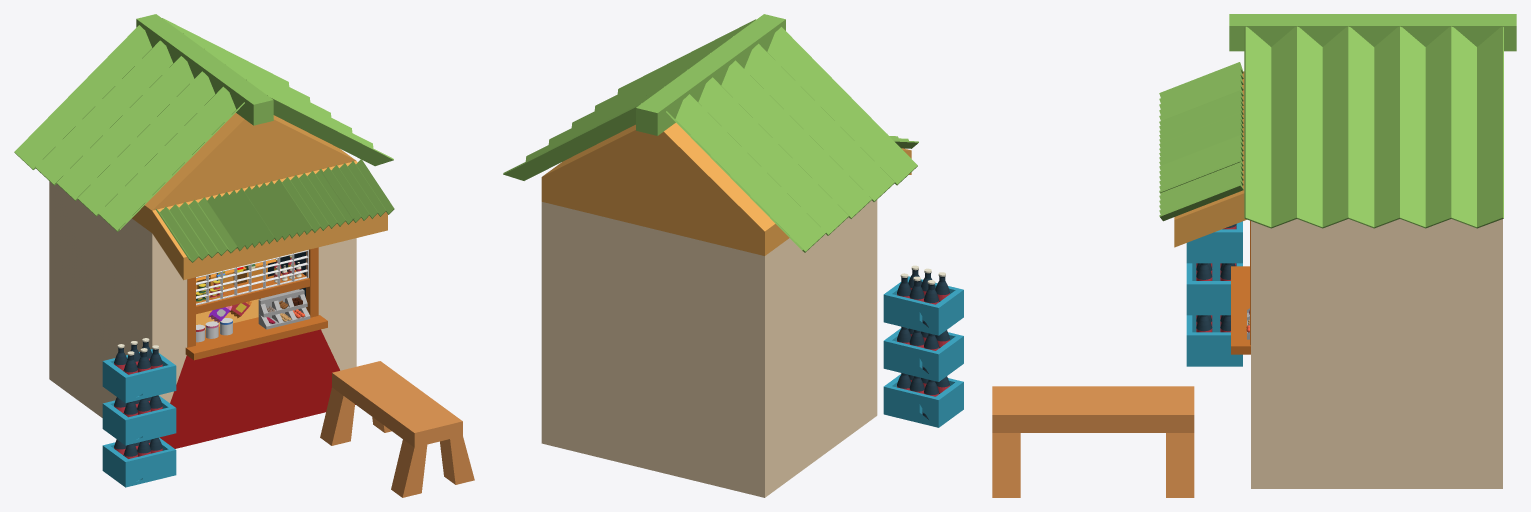
The model's file is sarisari.fbx.
The picture shows the model from 3 angles, left to right: view 1: azimuth 30°, elevation 25°; view 2: azimuth 150°, elevation 25°; view 3: azimuth 270°, elevation 25°; orthographic projection. The views are drawn at different scales.
Parts seen in each view (by area): view 1: sarisaristore, chair, coke; view 2: sarisaristore, coke; view 3: sarisaristore, chair, coke.
Part boxes in pixels (left/top/right/bottom): sarisaristore: left=14, top=14, right=394, bottom=448; chair: left=320, top=361, right=474, bottom=497; coke: left=102, top=338, right=176, bottom=487; sarisaristore: left=503, top=14, right=918, bottom=497; coke: left=883, top=265, right=963, bottom=427; sarisaristore: left=1159, top=14, right=1516, bottom=488; chair: left=992, top=386, right=1194, bottom=497; coke: left=1186, top=221, right=1242, bottom=366.
Bounding box in the file's own units: 22565 × 24696 × 28636.
